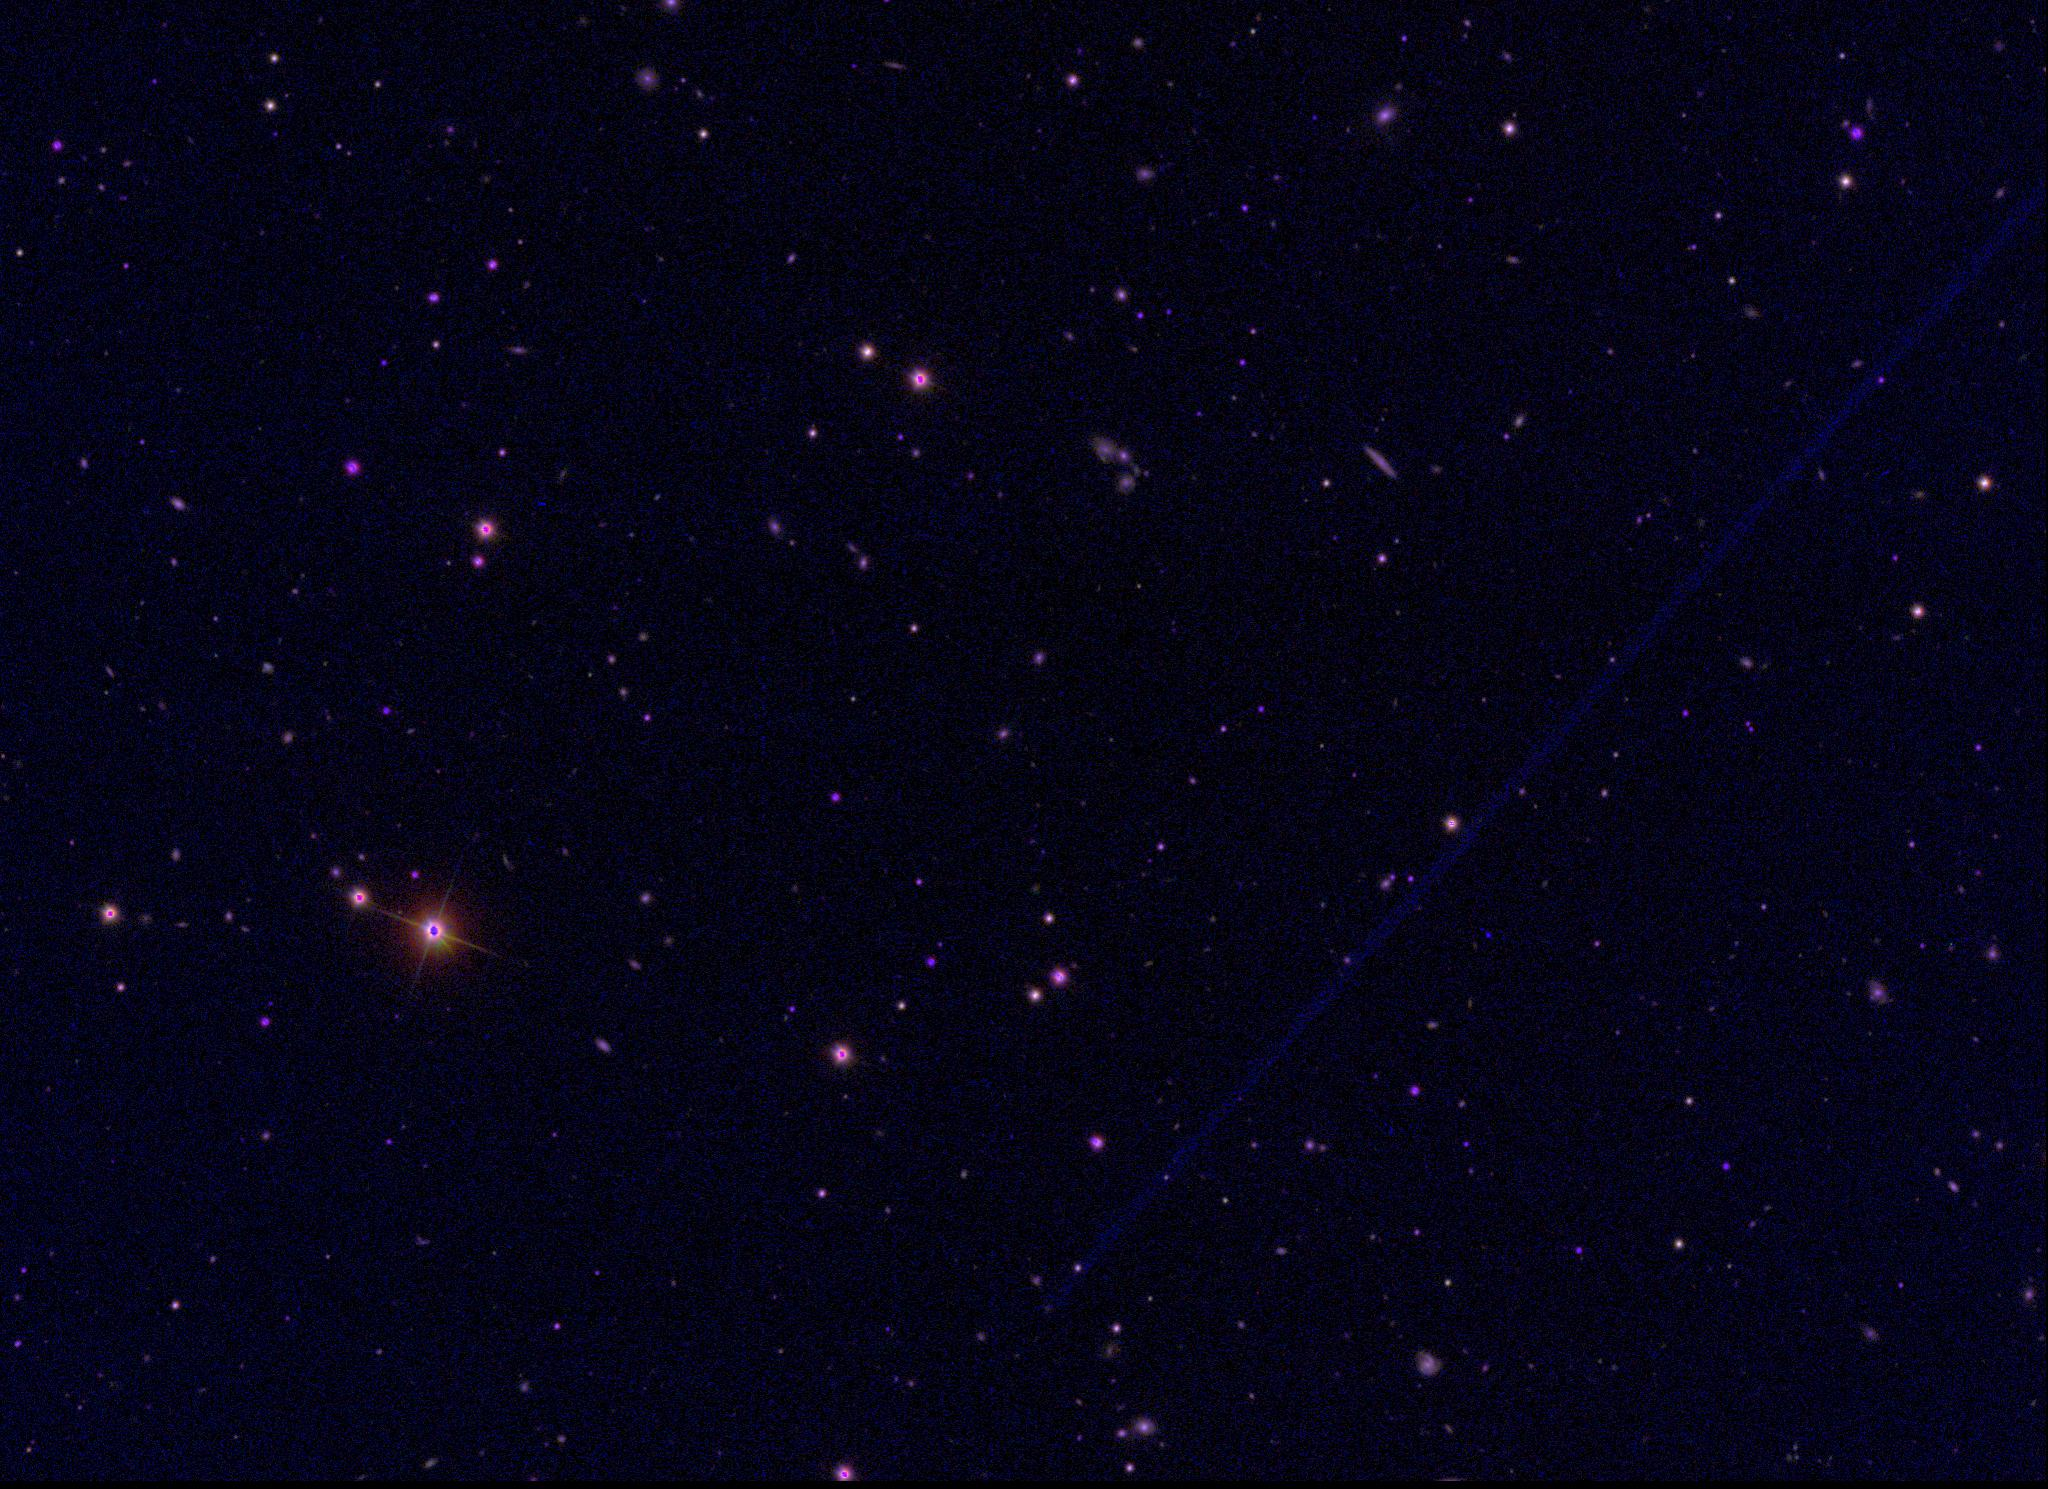L: (1480, 926, 1495, 940)
